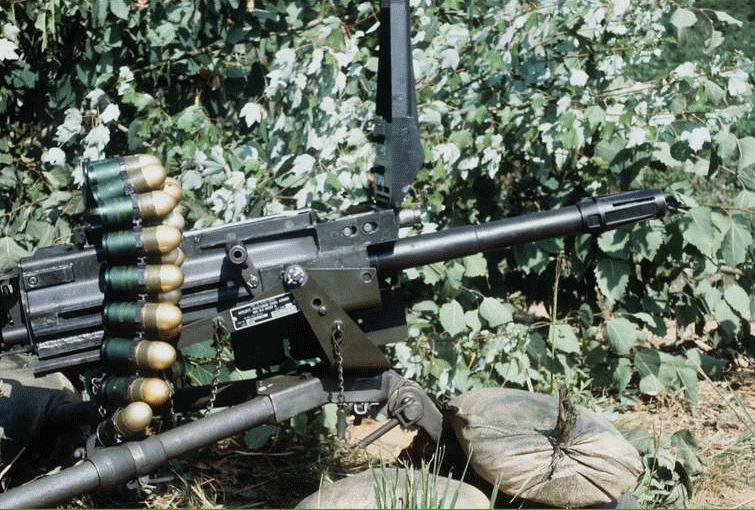rifle: (1, 126, 691, 466)
